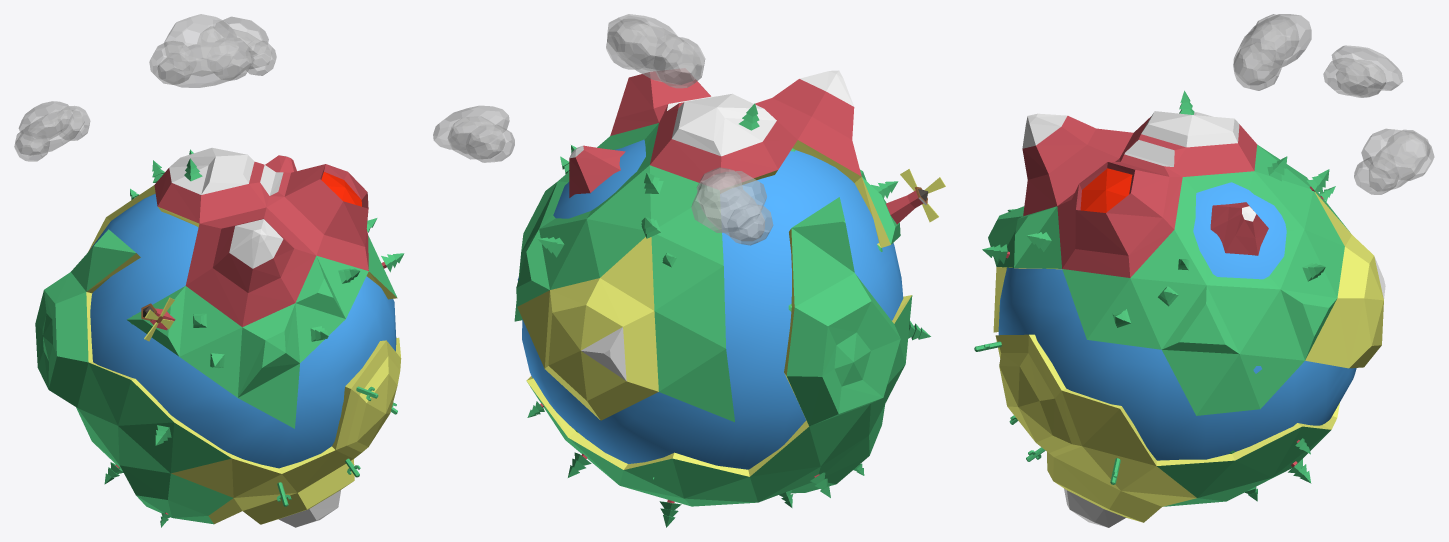
Rendered from LowPolyPlanet.obj.
3 views of the same model, side by side, from view 1: azimuth 30°, elevation 25°; view 2: azimuth 150°, elevation 25°; view 3: azimuth 270°, elevation 25° (orthographic). The views are drawn at different scales.
Visible parts, largest first — view 1: Land_Sphere, Water_Sphere, Platonic.2_2, Platonic.1_2, Platonic.1_1, Platonic.2_1, Platonic_2, Platonic.3_2, Platonic.2, Platonic_1, Platonic.3_1, Platonic (+1 smaller); view 2: Land_Sphere, Water_Sphere, Platonic.2_1, Platonic.2_2, Platonic.1_1, Platonic.1_2, Platonic.2, Platonic_2, Platonic.1, Platonic.3, Platonic.3_1, Platonic.3_2 (+2 smaller); view 3: Land_Sphere, Water_Sphere, Platonic.2, Platonic.2_2, Platonic.1, Platonic.2_1, Platonic.3_2, Platonic.1_2, Platonic_1, Platonic.1_1, Platonic, Platonic_2.
Boxes of the visible parts, x1,y1,x2,y2 form: Land_Sphere: [35, 147, 401, 527]; Water_Sphere: [89, 193, 396, 468]; Platonic.2_2: [164, 14, 238, 76]; Platonic.1_2: [157, 42, 251, 87]; Platonic.1_1: [16, 110, 84, 155]; Platonic.2_1: [18, 101, 72, 141]; Platonic_2: [149, 41, 196, 84]; Platonic.3_2: [207, 37, 253, 80]; Platonic.2: [216, 16, 268, 56]; Platonic_1: [55, 106, 90, 140]; Platonic.3_1: [14, 127, 49, 161]; Platonic: [246, 40, 276, 75]; Land_Sphere: [514, 70, 912, 506]; Water_Sphere: [517, 139, 903, 469]; Platonic.2_1: [691, 171, 766, 232]; Platonic.2_2: [607, 14, 683, 71]; Platonic.1_1: [697, 178, 764, 240]; Platonic.1_2: [626, 24, 701, 84]; Platonic.2: [433, 105, 509, 150]; Platonic_2: [653, 37, 705, 88]; Platonic.1: [448, 121, 505, 159]; Platonic.3: [466, 125, 514, 162]; Platonic.3_1: [727, 204, 773, 245]; Platonic.3_2: [606, 19, 657, 69]; Land_Sphere: [988, 111, 1385, 527]; Water_Sphere: [998, 182, 1356, 460]; Platonic.2: [1361, 128, 1434, 180]; Platonic.2_2: [1240, 14, 1311, 70]; Platonic.1: [1369, 134, 1426, 191]; Platonic.2_1: [1331, 45, 1403, 90]; Platonic.3_2: [1233, 42, 1281, 90]; Platonic.1_2: [1233, 27, 1286, 84]; Platonic_1: [1323, 58, 1370, 95]; Platonic.1_1: [1336, 60, 1385, 97]; Platonic: [1354, 156, 1398, 194]; Platonic_2: [1254, 14, 1298, 58].
Size of the model in its own units: 526 by 715 by 604.
